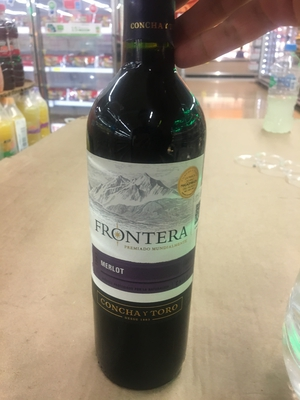frontera merlot: (84, 14, 215, 400)
